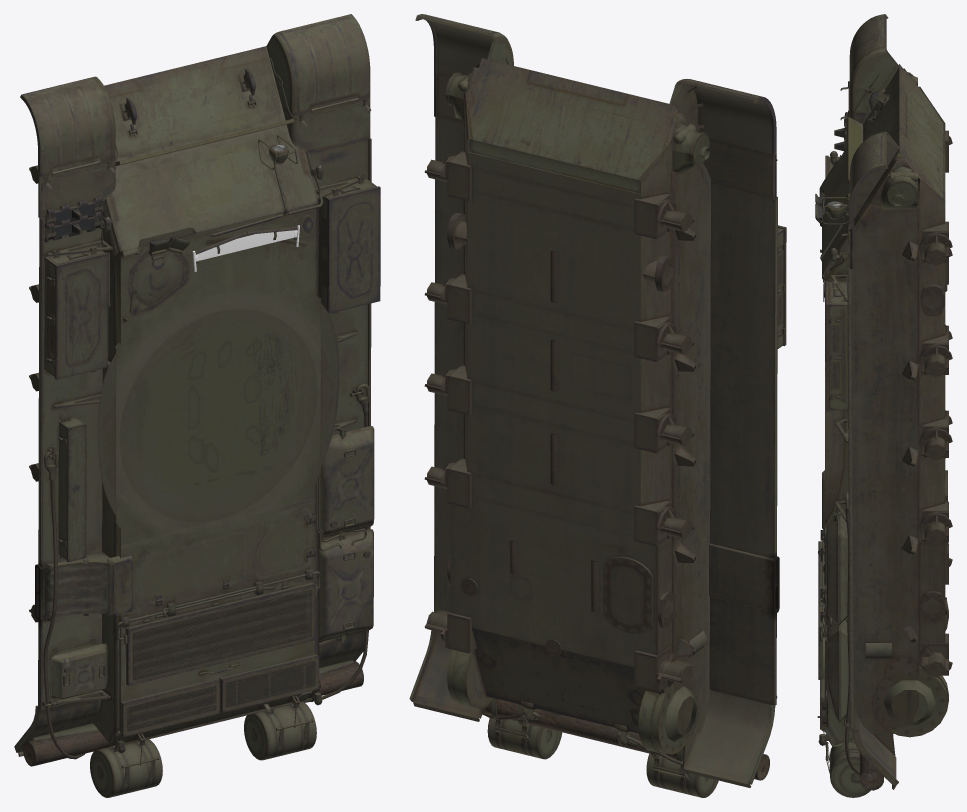
File: Hull.glb
3 views of the same model, side by side, from view 1: azimuth 30°, elevation 25°; view 2: azimuth 150°, elevation 25°; view 3: azimuth 270°, elevation 25° (orthographic). The views are drawn at different scales.
Parts seen in each view (by area): view 1: set_0_group_1, set_0_group_0; view 2: set_0_group_1; view 3: set_0_group_1.
Boxes of the visible parts, x1,y1,x2,y2 form: set_0_group_1: [14, 14, 380, 797]; set_0_group_0: [192, 225, 299, 271]; set_0_group_1: [409, 14, 786, 797]; set_0_group_1: [815, 14, 952, 797].
Bounding box in the file's own units: 3.31 × 6.73 × 1.26.
2 materials, 1 textured.
